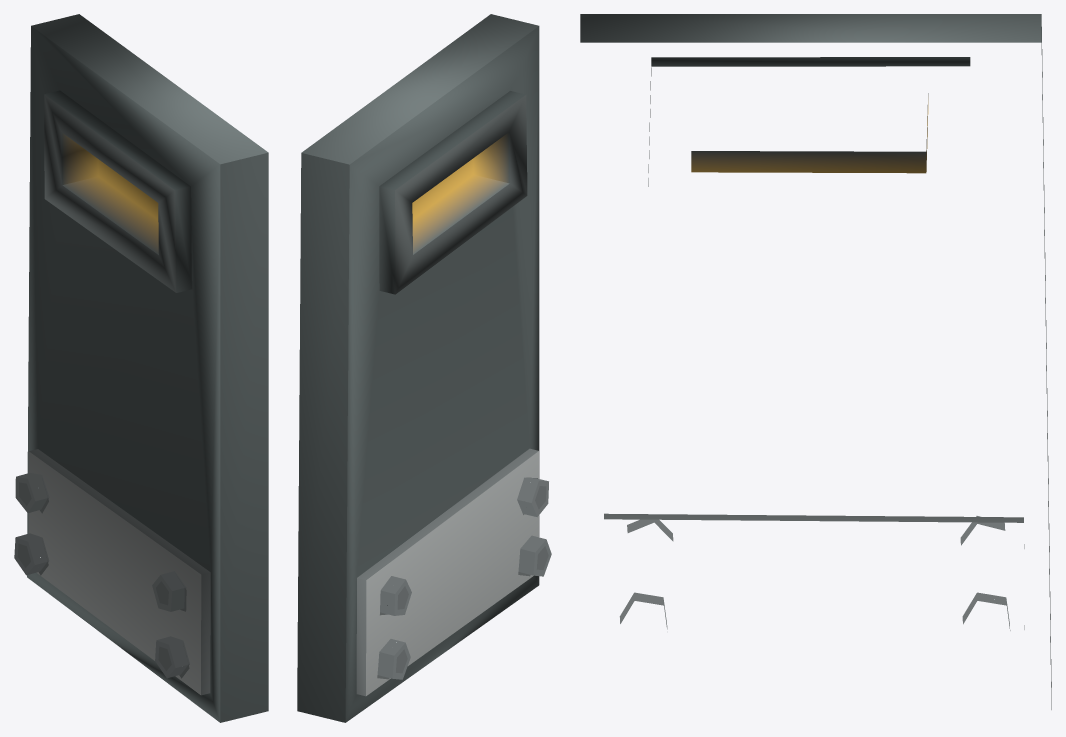
The model's file is herbertBaseDoor.glb.
3 renders of one model, left to right at view 1: azimuth 30°, elevation 25°; view 2: azimuth 150°, elevation 25°; view 3: azimuth 270°, elevation 25°, orthographic. The views are drawn at different scales.
Visible parts, largest first — view 1: herbertBaseDoor; view 2: herbertBaseDoor; view 3: herbertBaseDoor.
Boxes of the visible parts, x1,y1,x2,y2 form: herbertBaseDoor: (14, 14, 268, 722); herbertBaseDoor: (297, 14, 551, 722); herbertBaseDoor: (580, 14, 1051, 709).
Size of the model in its own units: 0.2446 by 1.66 by 1.04.
